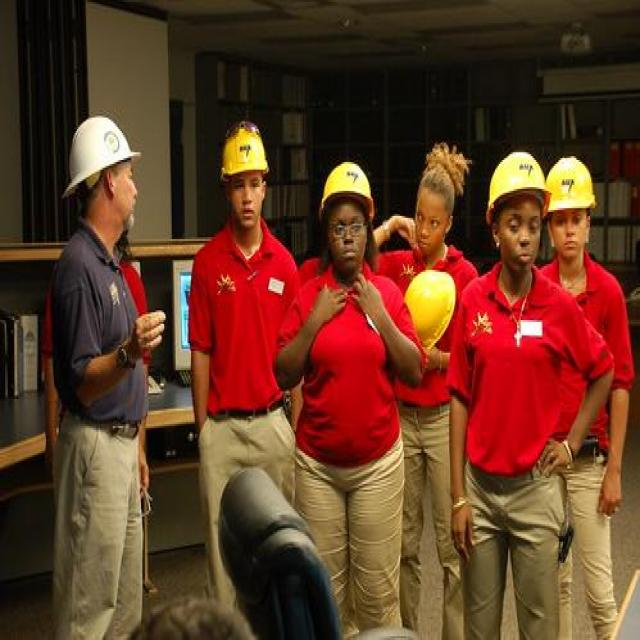Safety-Helmet: (59, 106, 141, 201), (402, 266, 457, 349), (215, 112, 272, 185), (483, 147, 549, 210), (544, 154, 598, 218), (317, 156, 376, 212)
